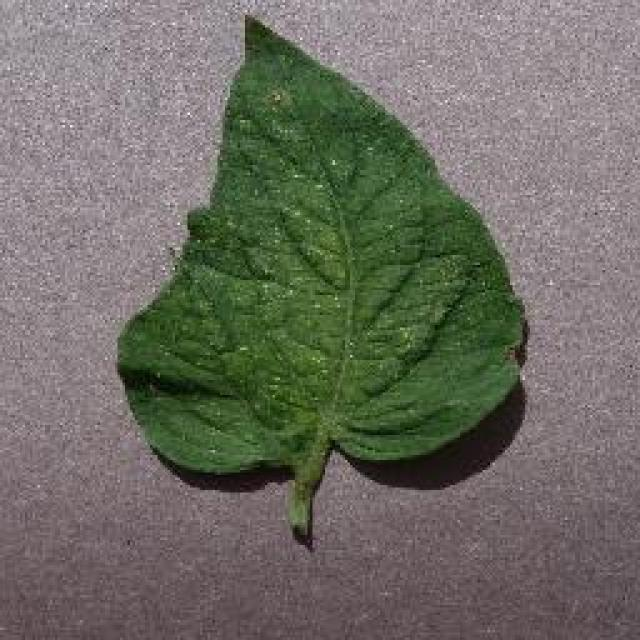Tomato___Spider_mites Two-spotted_spider_mite: (118, 18, 522, 542)
